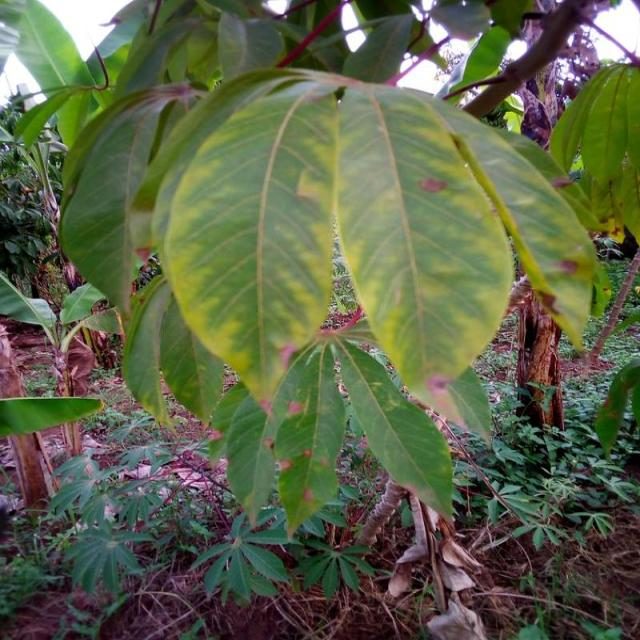cassava leaf: (334, 80, 514, 419), (156, 76, 338, 406), (333, 334, 455, 524)
